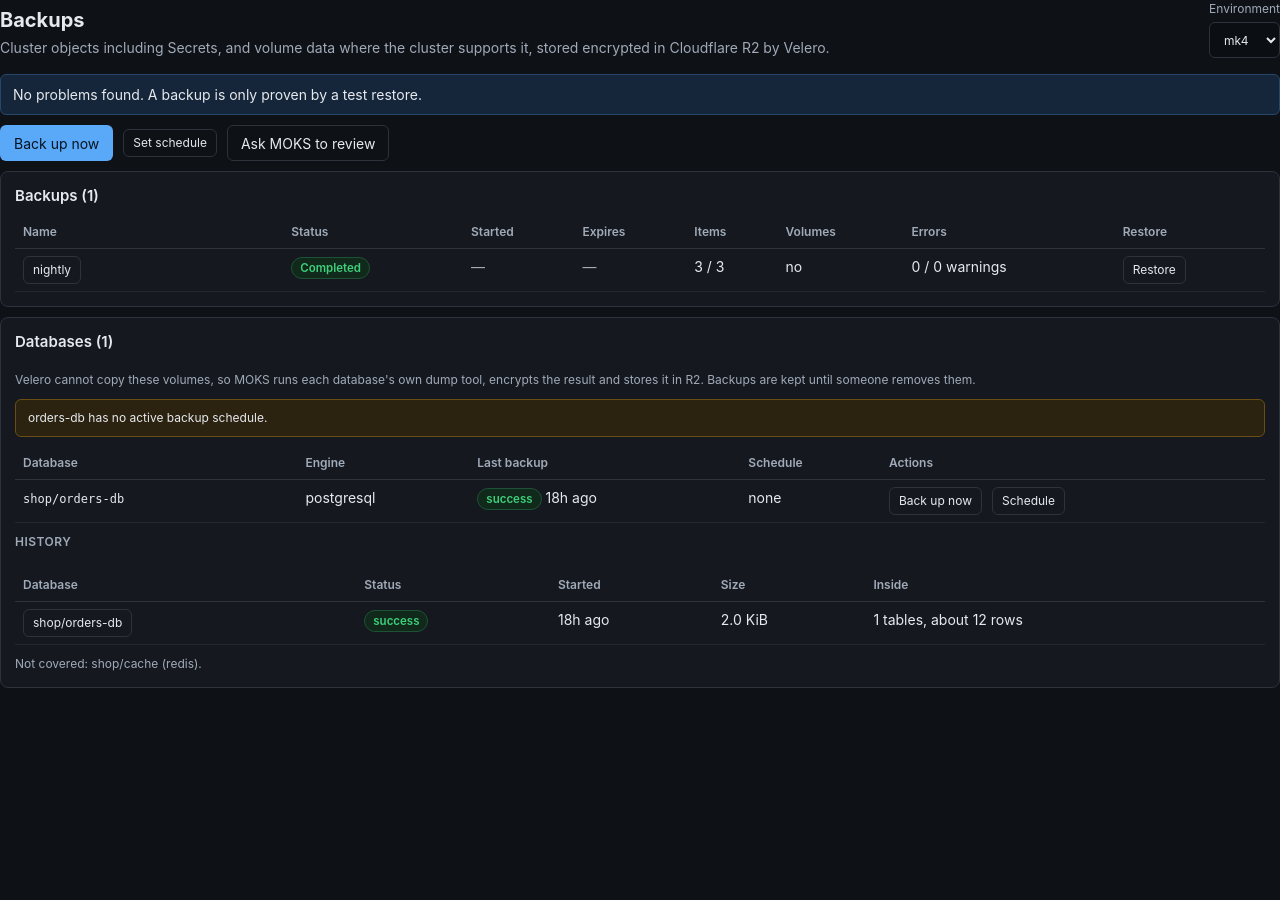
Test: Backups › lists databases, gaps and what a dump holds
Click the button "shop/orders-db" at (78, 623), box x1=23 y1=609 x2=132 y2=637
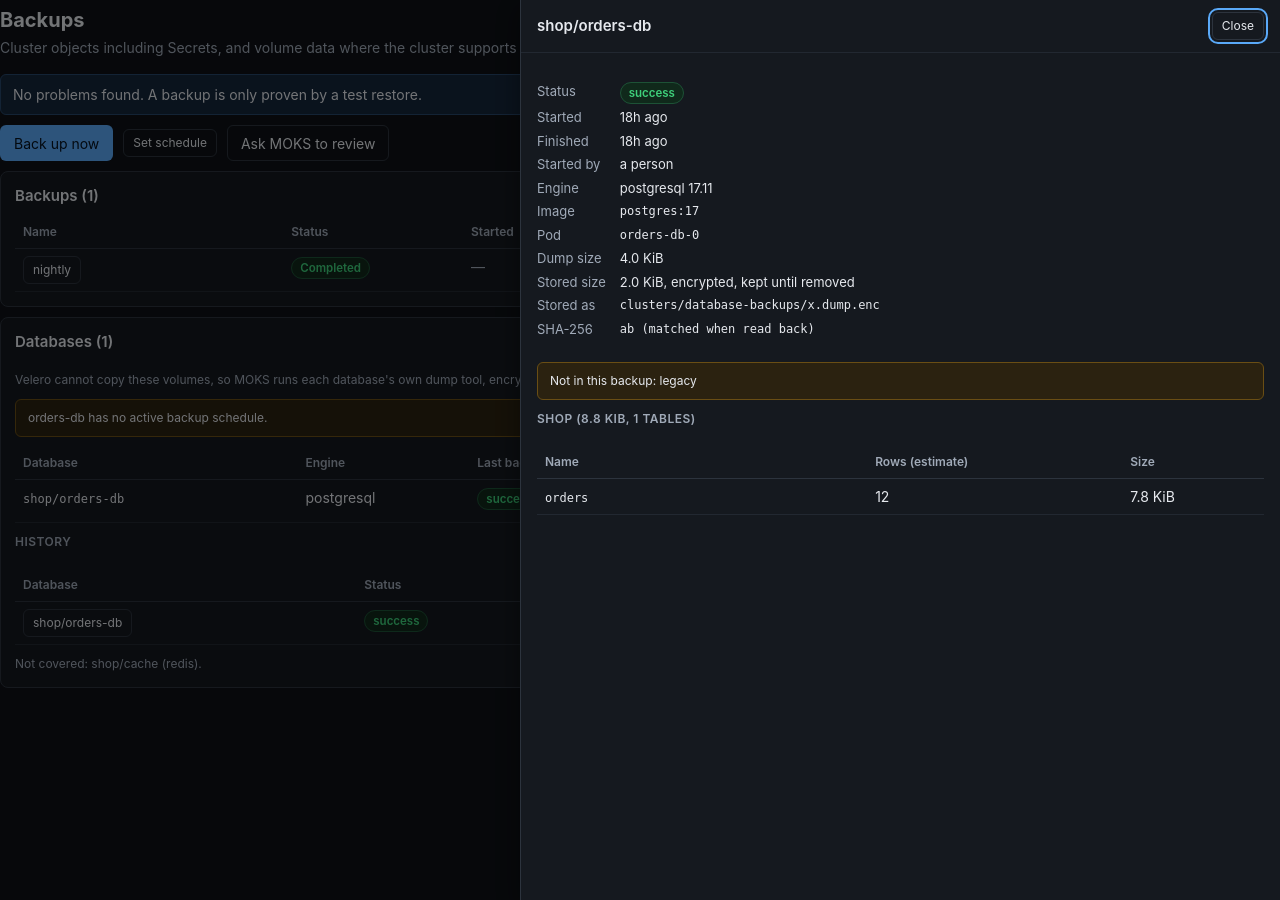
Expected: the text "Not covered: shop/cache (redis)." is shown, x1=15 y1=656 x2=202 y2=671
Expected: the text "orders" is shown, x1=545 y1=491 x2=588 y2=505
Expected: the text "Not in this backup: legacy" is shown, x1=537 y1=362 x2=1264 y2=400
